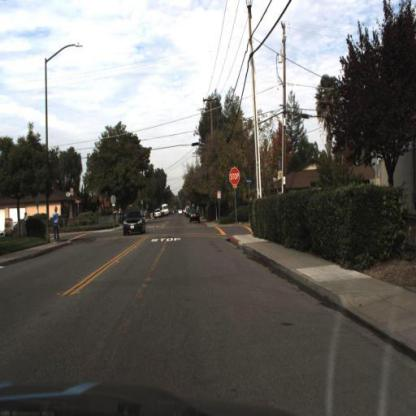car: (122, 206, 148, 239), (189, 209, 203, 225), (153, 208, 164, 222)
pedestrian: (52, 202, 64, 247), (50, 208, 62, 245)
